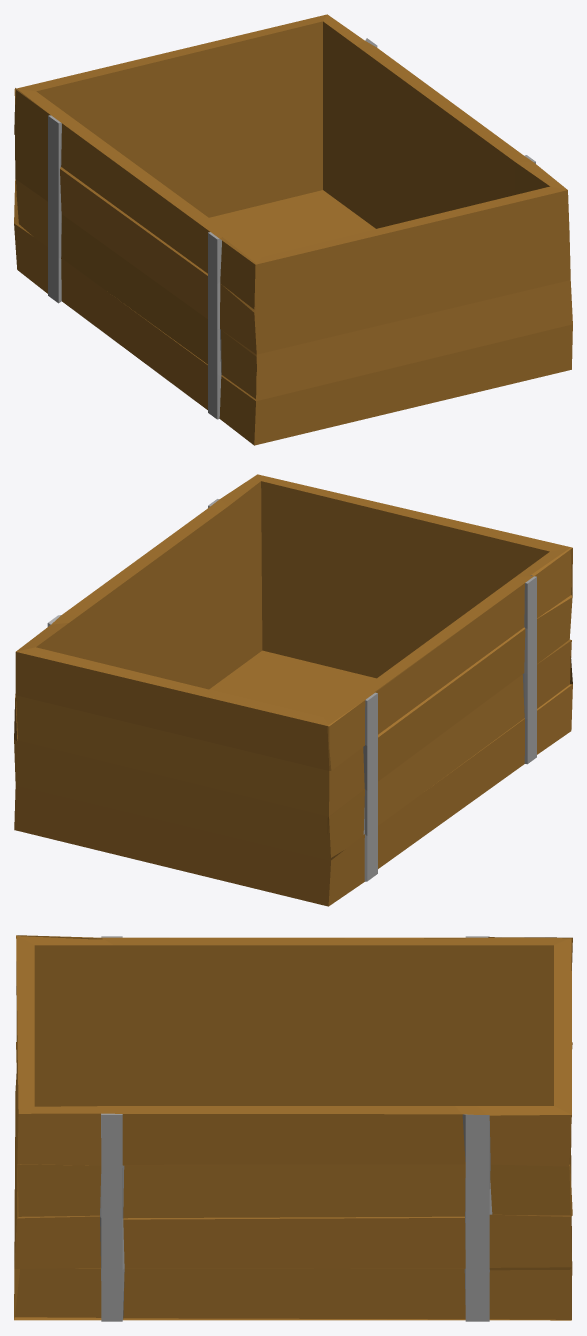
Rendered from Chest.glb.
3 renders of one model, top to bottom at view 1: azimuth 30°, elevation 25°; view 2: azimuth 150°, elevation 25°; view 3: azimuth 270°, elevation 25°, orthographic. The views are drawn at different scales.
Parts seen in each view (by area): view 1: Chest; view 2: Chest; view 3: Chest.
Part boxes in pixels (box(x1,y1,x2,y2)): Chest: box(14, 14, 572, 445); Chest: box(14, 474, 572, 906); Chest: box(14, 935, 572, 1321).
Bounding box in the file's own units: 1.14 × 0.6267 × 1.51.
